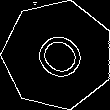O_SE: (24, 22, 92, 88)
